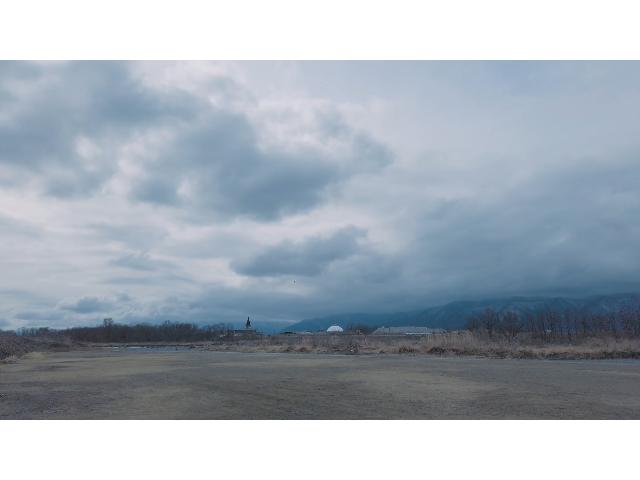Anti-Drone: (292, 278, 298, 286)
